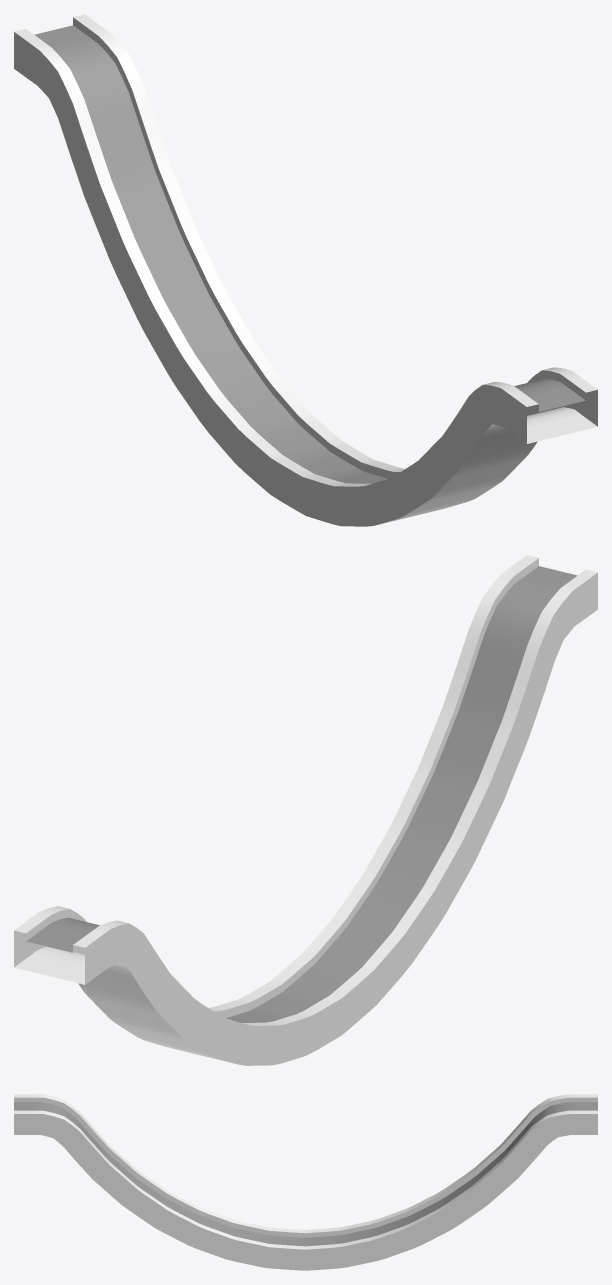
Rendered from road_vpadina.fbx.
3 renders of one model, top to bottom at view 1: azimuth 30°, elevation 25°; view 2: azimuth 150°, elevation 25°; view 3: azimuth 270°, elevation 25°, orthographic. The views are drawn at different scales.
Visible parts, largest first — view 1: Cube.001; view 2: Cube.001; view 3: Cube.001.
Boxes of the visible parts, x1=… form: Cube.001: x1=14, y1=14, x2=597, y2=526; Cube.001: x1=14, y1=555, x2=597, y2=1065; Cube.001: x1=14, y1=1094, x2=597, y2=1270.
Bounding box in the file's own units: 244 × 903 × 3047.
